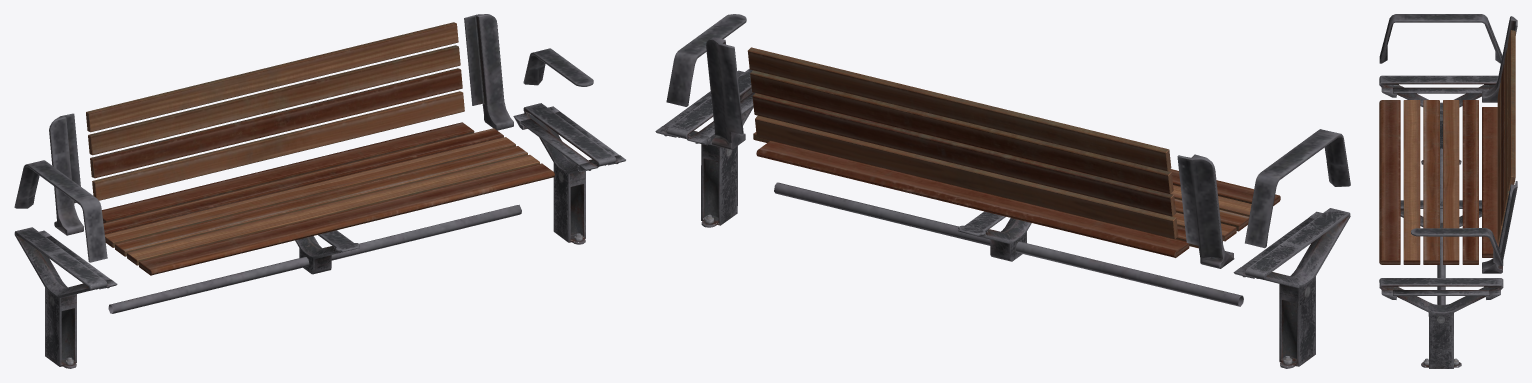
File: modular_street_seating.gltf
3 renders of one model, left to right at view 1: azimuth 30°, elevation 25°; view 2: azimuth 150°, elevation 25°; view 3: azimuth 270°, elevation 25°, orthographic. The views are drawn at different scales.
Parts seen in each view (by area): view 1: modular_street_seating; view 2: modular_street_seating; view 3: modular_street_seating.
Boxes of the visible parts, bbox=[...] form: modular_street_seating: bbox=[14, 14, 625, 368]; modular_street_seating: bbox=[655, 14, 1350, 368]; modular_street_seating: bbox=[1379, 14, 1517, 368].
Bounding box in the file's own units: 2.45 × 0.8669 × 0.6718.
Materials: 1 (1 with a texture image).
